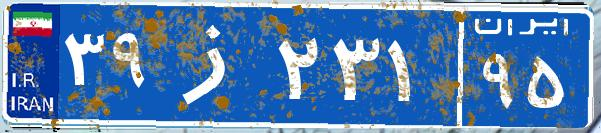1: (385, 28, 445, 110)
2: (273, 28, 330, 110)
3: (330, 28, 385, 110), (57, 26, 110, 107)
5: (525, 38, 570, 115)
9: (475, 38, 525, 113), (110, 28, 158, 105)
ز: (158, 15, 273, 115)
